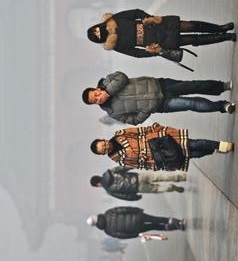person: (82, 70, 235, 125), (86, 8, 235, 59), (89, 124, 233, 172), (89, 165, 188, 201), (86, 206, 186, 241), (98, 114, 123, 126), (100, 236, 126, 246), (101, 246, 128, 255)
